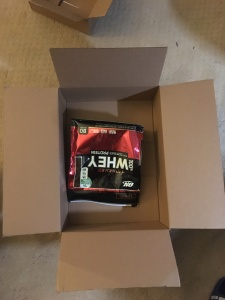innerbox: (59, 88, 171, 228)
outerbox: (2, 47, 225, 288)
product: (65, 118, 146, 208)
